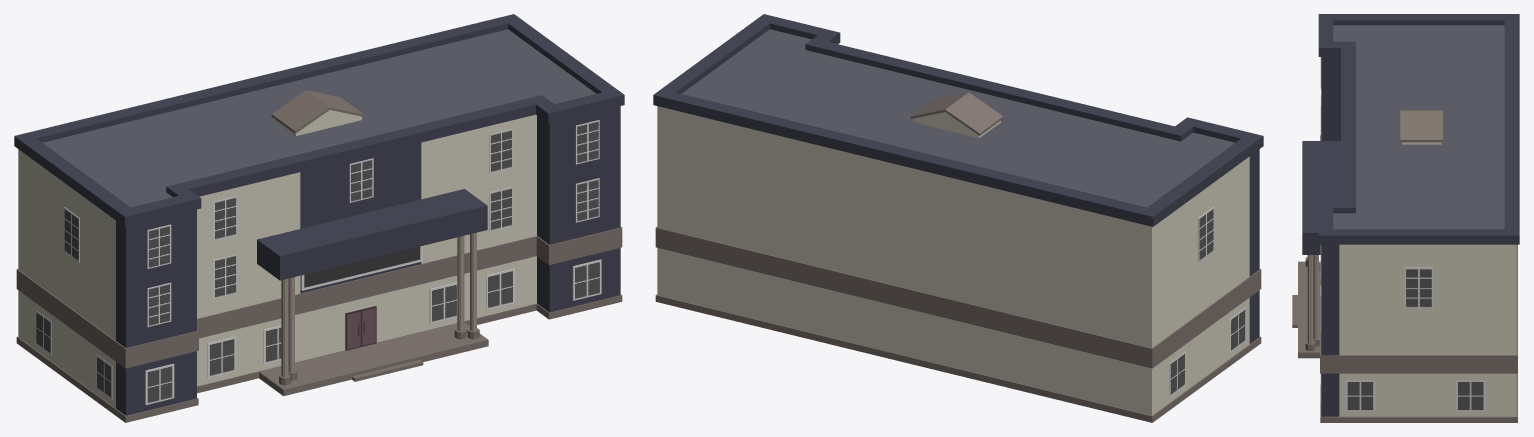
The model's file is governorship01_color01.fbx.
3 views of the same model, side by side, from view 1: azimuth 30°, elevation 25°; view 2: azimuth 150°, elevation 25°; view 3: azimuth 270°, elevation 25° (orthographic). The views are drawn at different scales.
Parts seen in each view (by area): view 1: governorship01_color01; view 2: governorship01_color01; view 3: governorship01_color01.
Part boxes in pixels (x1,y1,x2,y2): governorship01_color01: (14, 14, 624, 422); governorship01_color01: (653, 14, 1263, 422); governorship01_color01: (1292, 14, 1519, 422).
Size of the model in its own units: 3032 by 1291 by 1313.
